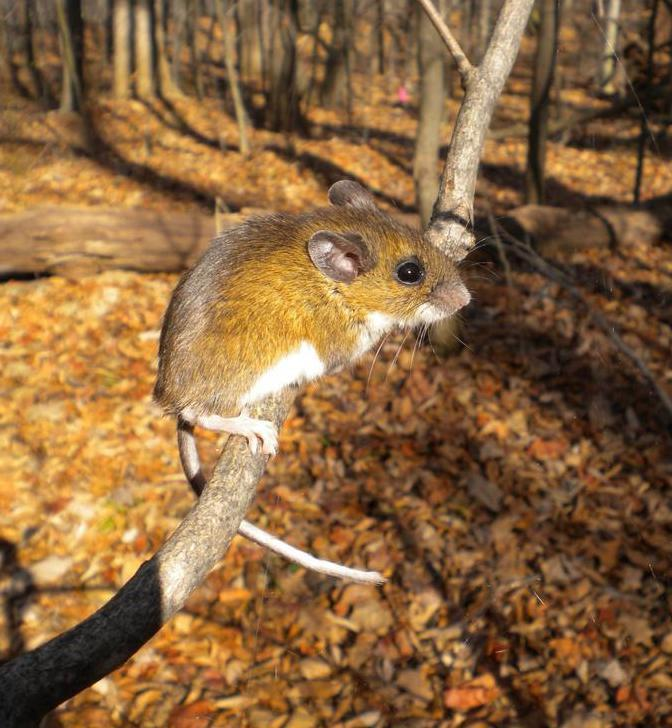rat: (154, 180, 472, 582)
